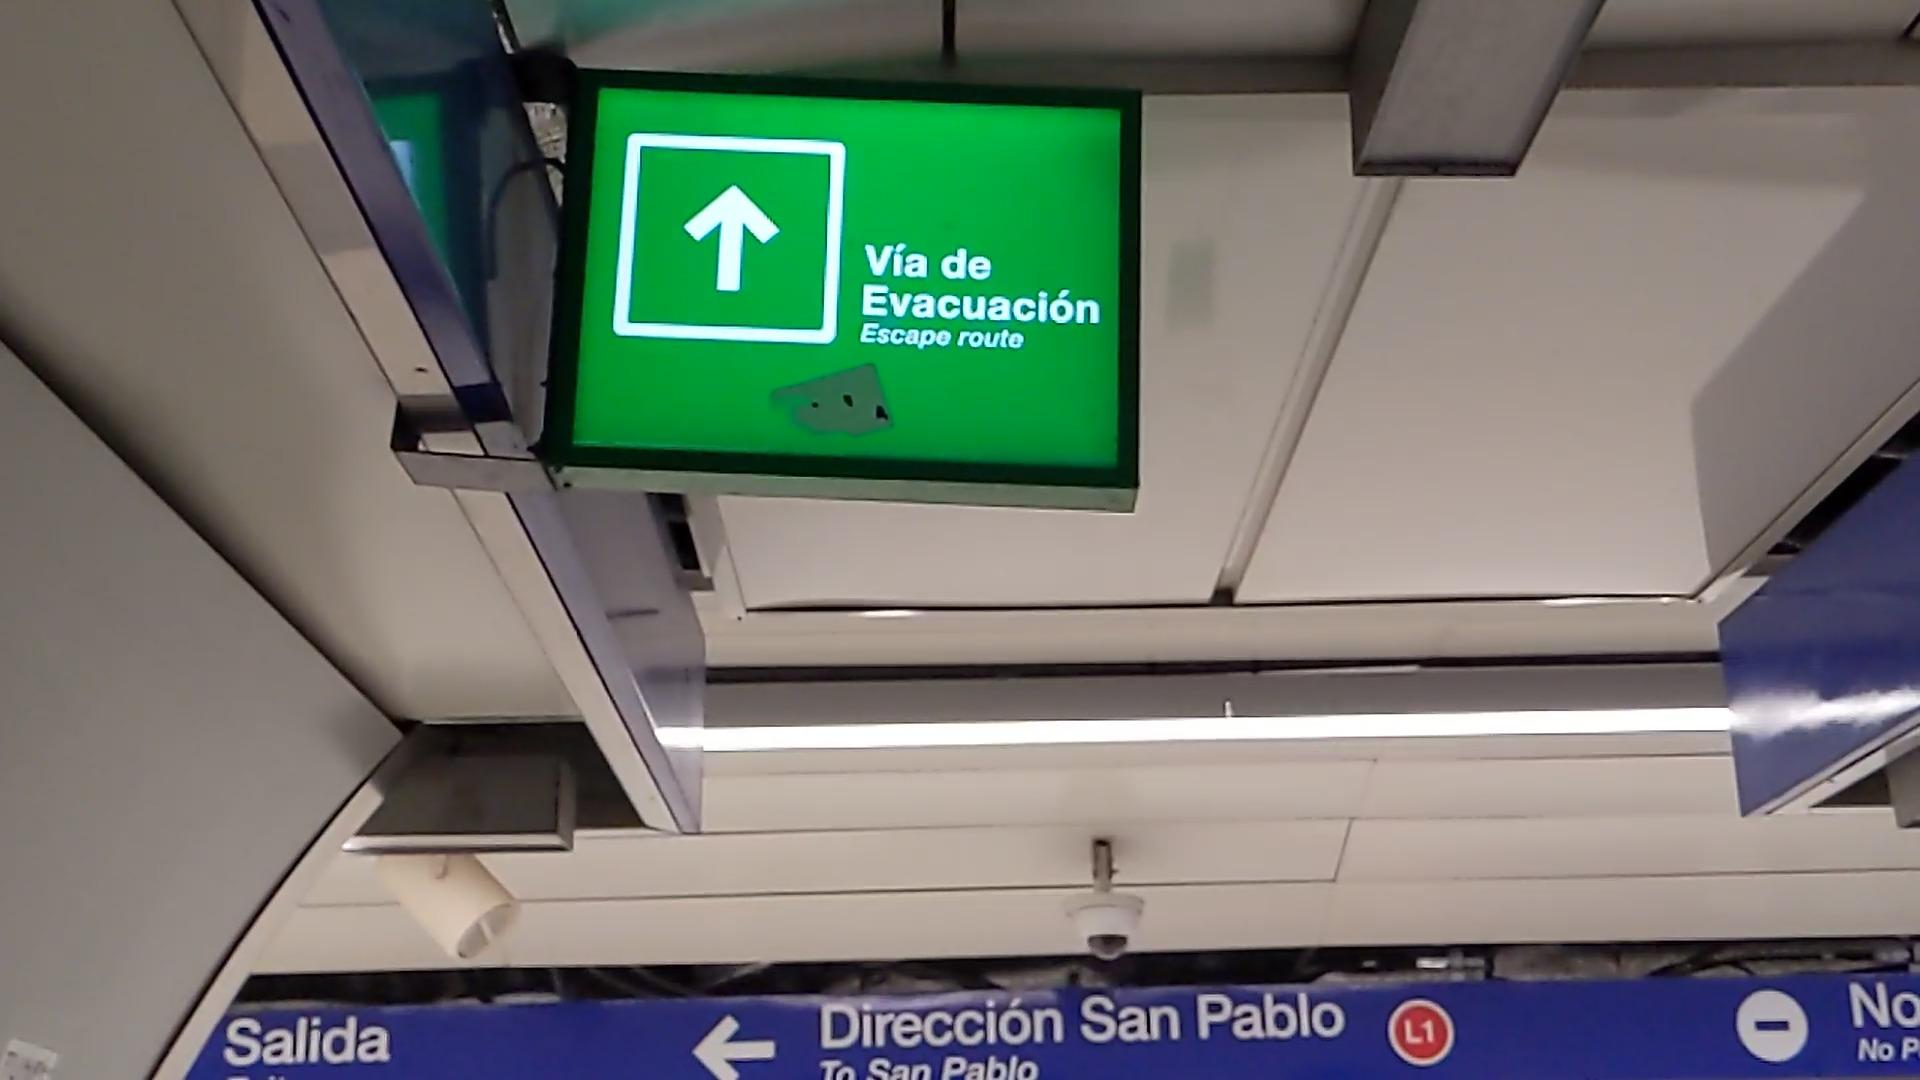emergency up arrow: (673, 178, 790, 301)
left arrow: (687, 1009, 782, 1080)
